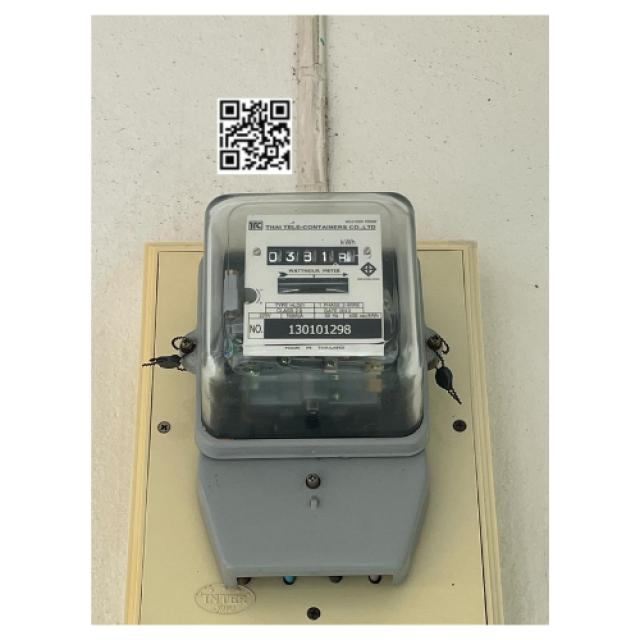qr_code: (215, 97, 292, 173)
